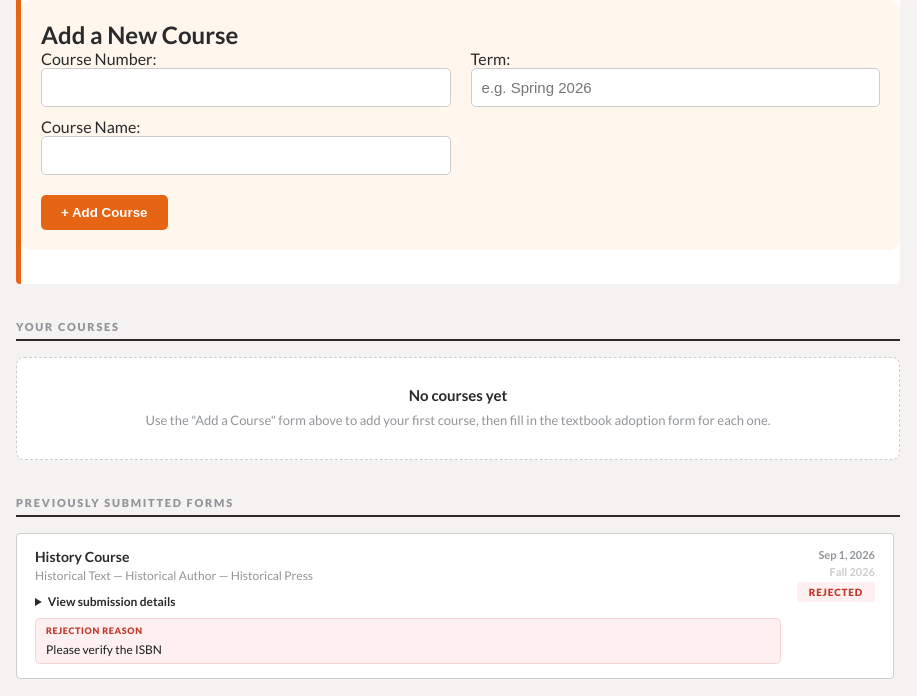
Instructor can open full historical details and exact rejection feedback
The width and height of the screenshot is (917, 696).
(page scrolled)
Click the heading "View submission details" at (112, 601), box [48,594,176,609]
(page scrolled)
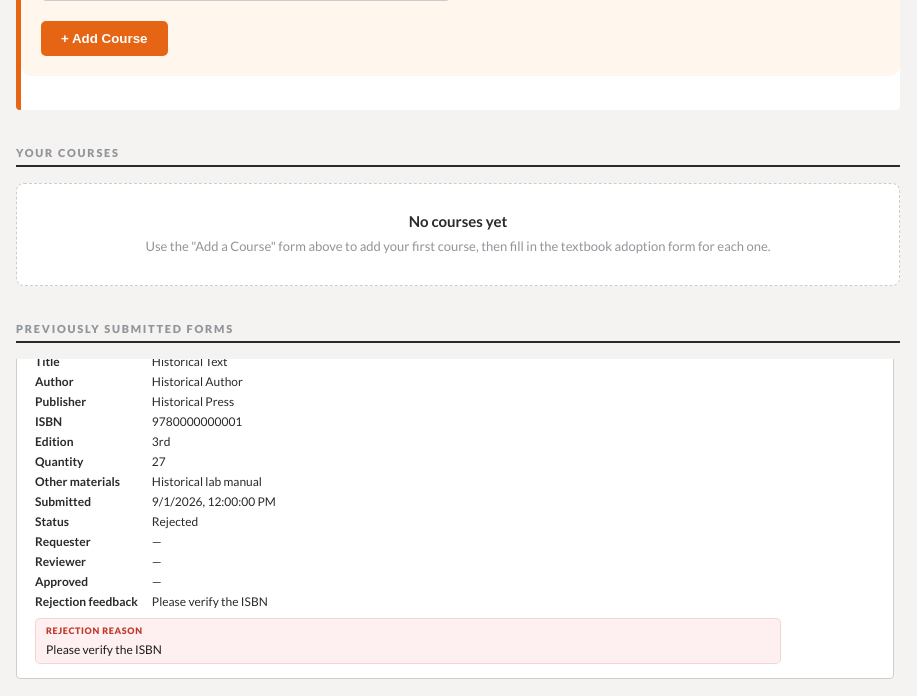
Expected: the text "9780000000001" is shown, [152,414,242,429]
Expected: the text "3rd" is shown, [152,434,170,449]
Expected: the text "27" is shown, [152,454,166,469]
